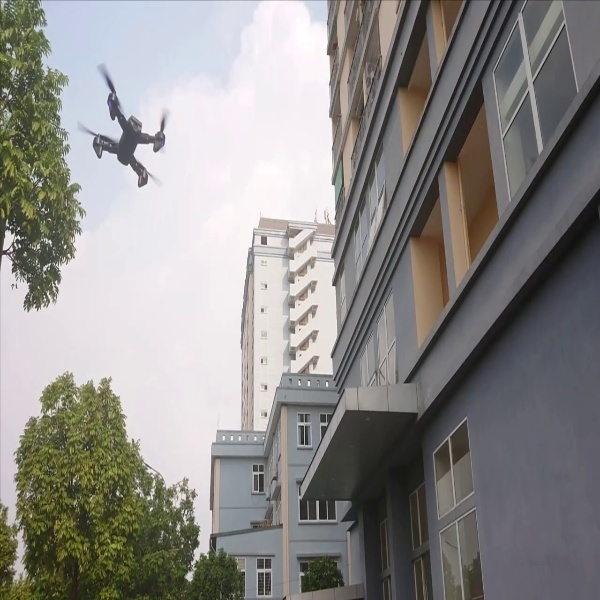drone: (74, 61, 175, 189)
